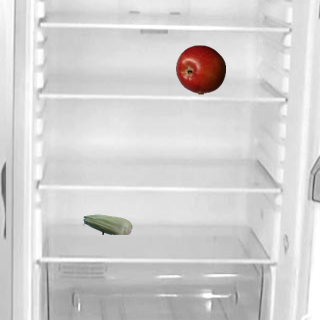Apple Braeburn: (175, 44, 225, 94)
Corn Husk: (82, 199, 132, 249)
